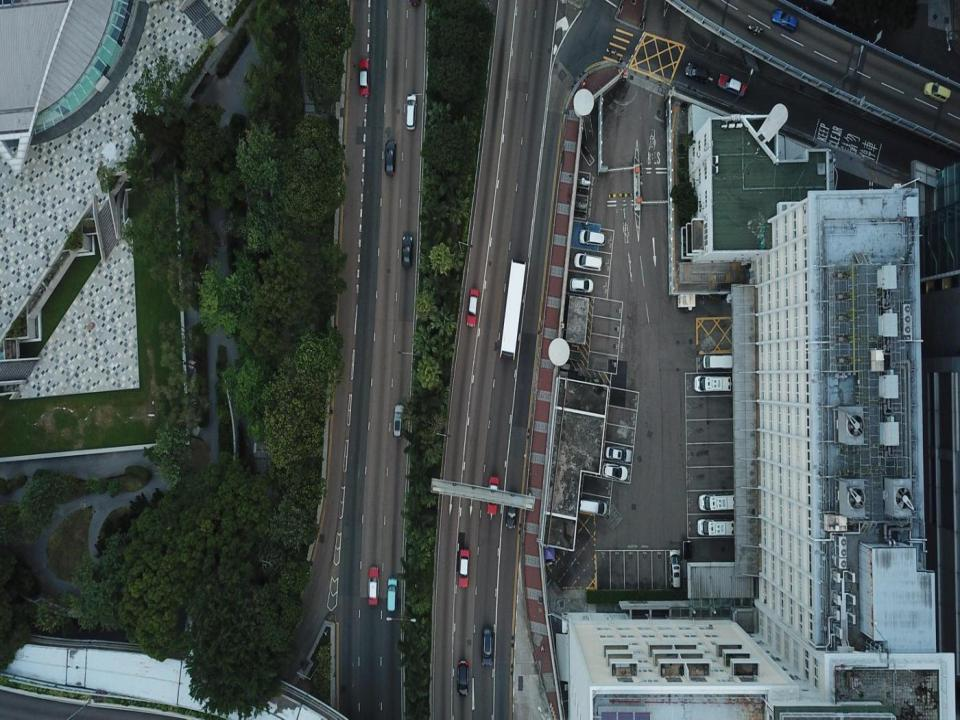bus: (501, 262, 527, 358)
car: (718, 70, 749, 96), (604, 440, 634, 464), (684, 58, 713, 82), (770, 7, 800, 30), (454, 659, 470, 701), (366, 562, 380, 608), (922, 81, 952, 102), (568, 272, 595, 294), (383, 138, 397, 180), (466, 288, 480, 330), (505, 489, 518, 533), (488, 474, 500, 520), (603, 463, 629, 484), (401, 232, 414, 271), (385, 577, 398, 615), (457, 547, 468, 591), (359, 56, 370, 99), (393, 402, 402, 441), (408, 0, 422, 11)
van: (692, 374, 733, 393), (699, 518, 736, 536), (574, 250, 603, 272), (699, 494, 736, 511), (482, 621, 494, 669), (577, 497, 606, 516), (703, 352, 732, 371), (578, 228, 607, 246), (404, 93, 417, 133), (668, 549, 681, 589)
